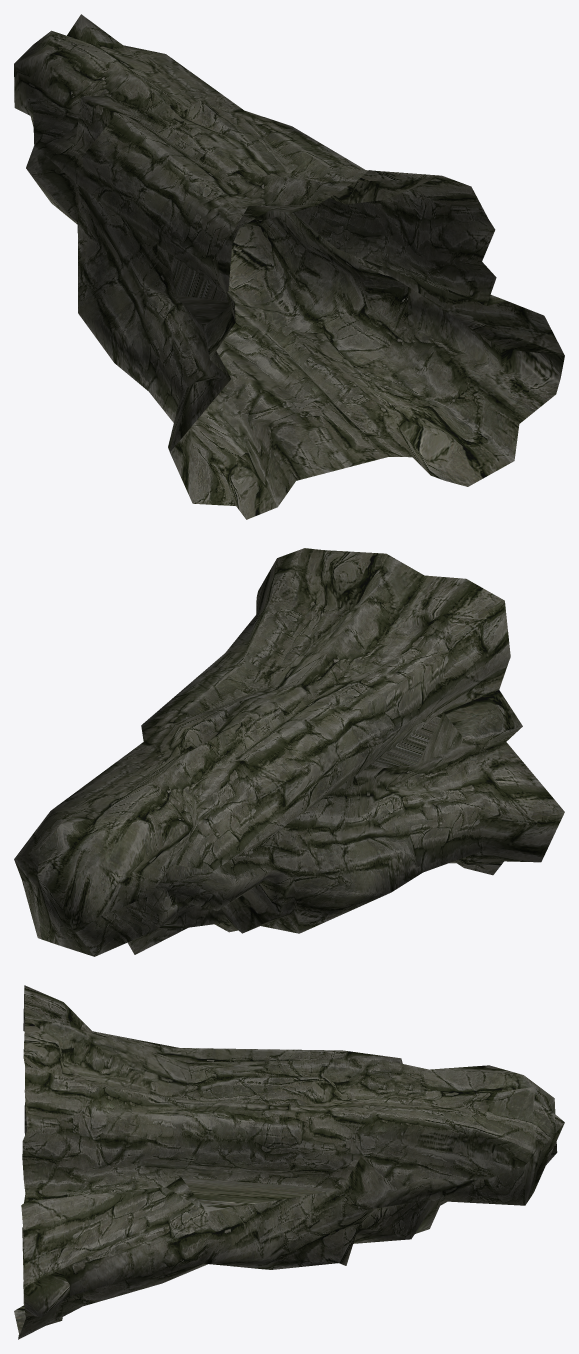
File: TI_Cliff_02_g_LOD_02.fbx
The picture shows the model from 3 angles, top to bottom: view 1: azimuth 30°, elevation 25°; view 2: azimuth 150°, elevation 25°; view 3: azimuth 270°, elevation 25°; orthographic projection. The views are drawn at different scales.
Parts seen in each view (by area): view 1: TI_Cliff_02_g_LOD_02; view 2: TI_Cliff_02_g_LOD_02; view 3: TI_Cliff_02_g_LOD_02.
Part boxes in pixels (x1,y1,x2,y2): TI_Cliff_02_g_LOD_02: (14, 14, 564, 519); TI_Cliff_02_g_LOD_02: (14, 548, 564, 956); TI_Cliff_02_g_LOD_02: (14, 985, 564, 1339).
Size of the model in its own units: 9.84 by 7.72 by 14.2.
